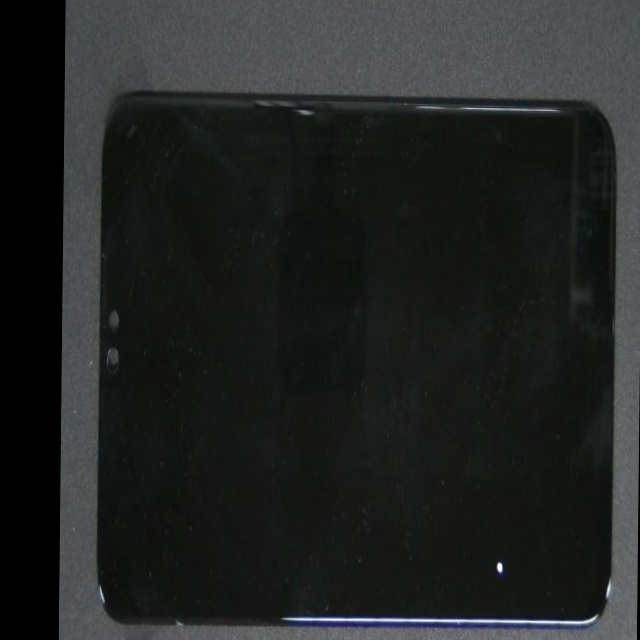stain: (291, 278, 640, 640)
